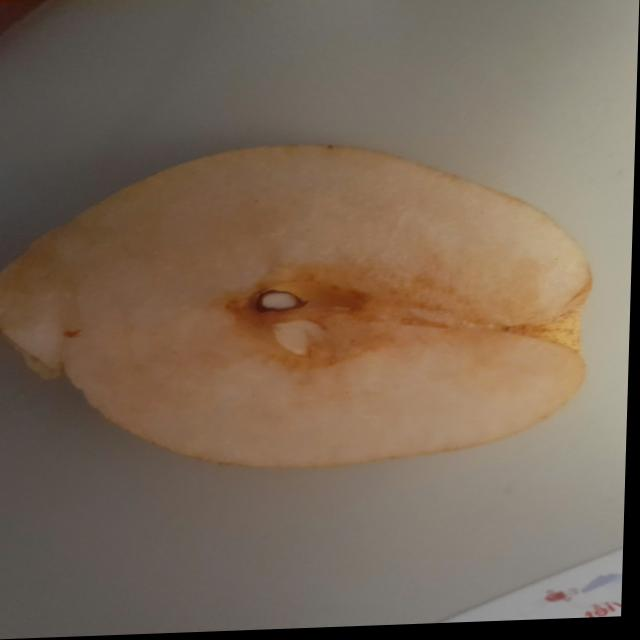Le: (0, 149, 608, 485)
